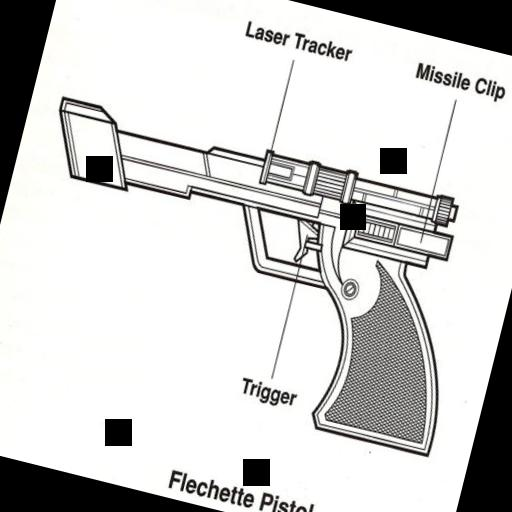Handgun: (0, 88, 493, 459)
